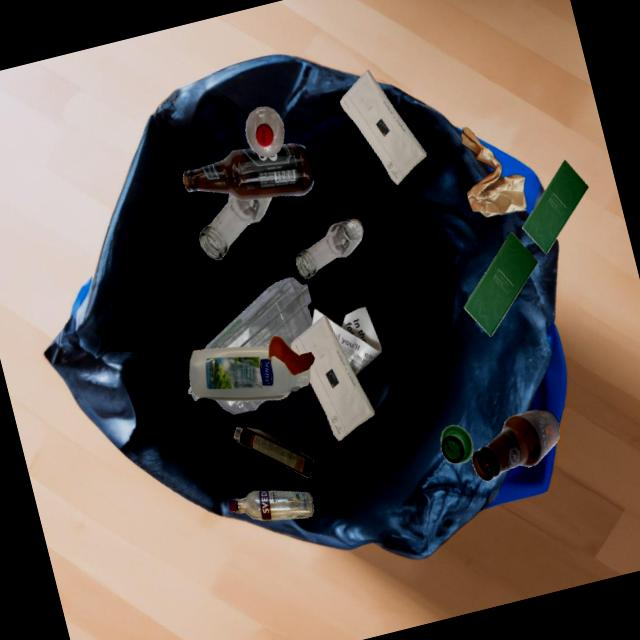biowaste: (268, 335, 314, 375)
cardboard: (233, 426, 313, 478)
glass: (183, 143, 313, 200), (471, 409, 559, 481), (199, 193, 272, 260), (296, 218, 363, 278), (228, 490, 313, 520), (440, 424, 473, 463)
paper: (291, 315, 374, 440), (340, 69, 426, 184), (463, 232, 538, 336), (522, 159, 588, 253), (461, 127, 527, 217), (326, 306, 381, 375)
plastic: (200, 325, 312, 400), (204, 277, 312, 349), (189, 346, 310, 401), (245, 106, 284, 157)
